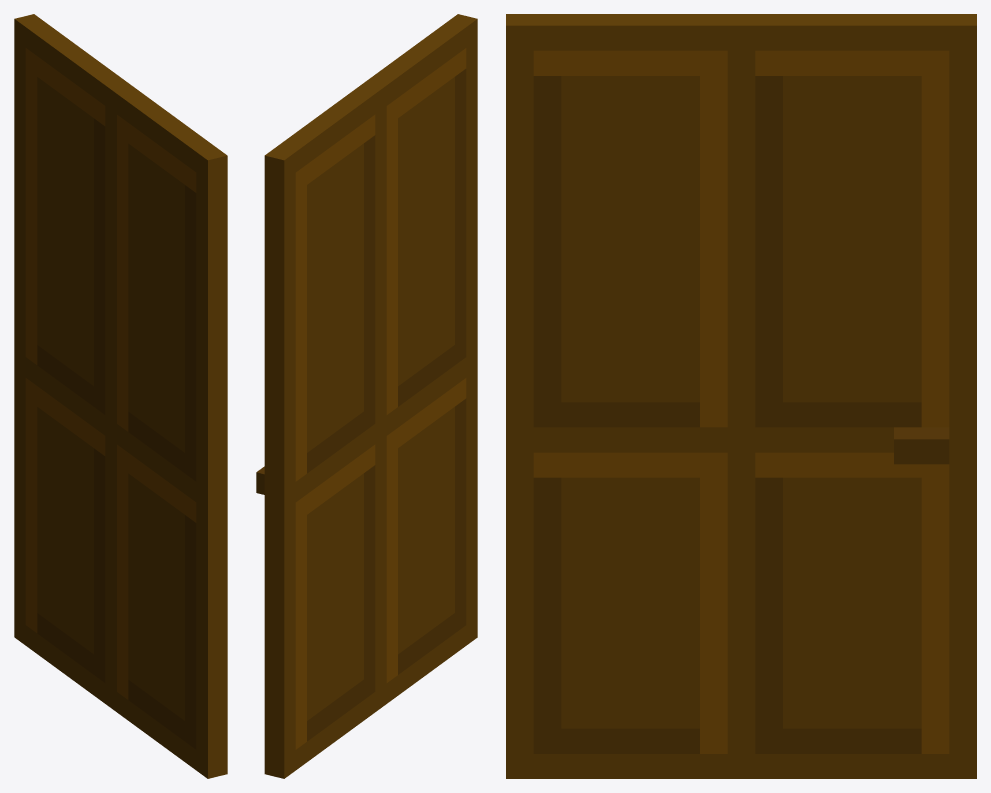
File: Bedroom-4-Door.obj
3 views of the same model, side by side, from view 1: azimuth 30°, elevation 25°; view 2: azimuth 150°, elevation 25°; view 3: azimuth 270°, elevation 25° (orthographic). The views are drawn at different scales.
Parts seen in each view (by area): view 1: Door; view 2: Door; view 3: Door.
Boxes of the visible parts, x1=… form: Door: x1=14, y1=14, x2=227, y2=778; Door: x1=256, y1=14, x2=477, y2=778; Door: x1=506, y1=14, x2=976, y2=778.
Size of the model in its own units: 0.2 by 3 by 1.7.
1 material, 1 textured.
